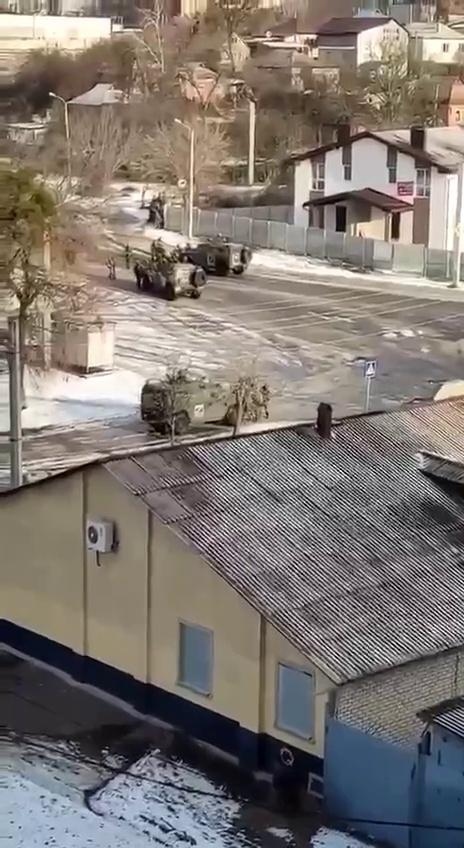armored_car: (140, 375, 244, 435), (176, 238, 254, 277), (137, 258, 207, 300)
person: (258, 383, 275, 425), (104, 252, 123, 286), (146, 232, 168, 260), (117, 238, 133, 270), (313, 295, 314, 296)
